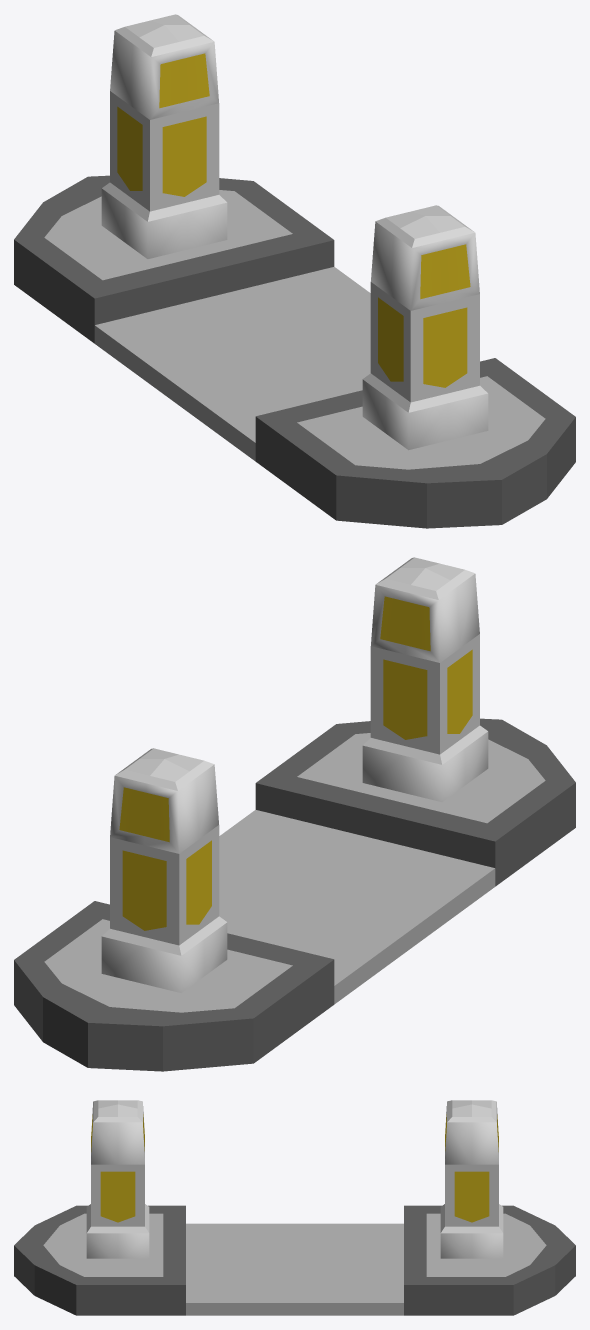
The picture shows the model from 3 angles, top to bottom: view 1: azimuth 30°, elevation 25°; view 2: azimuth 150°, elevation 25°; view 3: azimuth 270°, elevation 25°; orthographic projection. The views are drawn at different scales.
Parts seen in each view (by area): view 1: Cube.001; view 2: Cube.001; view 3: Cube.001.
Part boxes in pixels (x1,y1,x2,y2): Cube.001: (14,14,575,528); Cube.001: (14,557,575,1071); Cube.001: (14,1100,575,1315).
Size of the model in its own units: 200 by 202 by 598.
